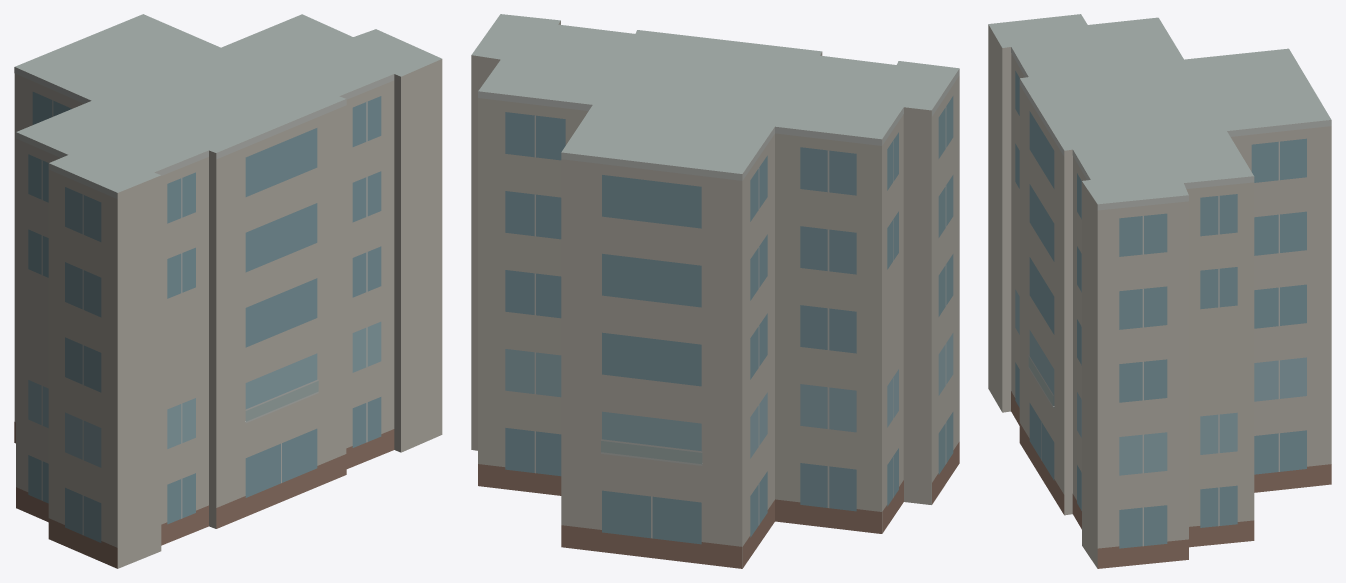
File: survey-upis-32921611.glb
3 renders of one model, left to right at view 1: azimuth 30°, elevation 25°; view 2: azimuth 150°, elevation 25°; view 3: azimuth 270°, elevation 25°, orthographic. The views are drawn at different scales.
Parts seen in each view (by area): view 1: survey-upis-32921611.tmp; view 2: survey-upis-32921611.tmp; view 3: survey-upis-32921611.tmp.
Part boxes in pixels (bbox=[...]): survey-upis-32921611.tmp: bbox=[14, 14, 442, 568]; survey-upis-32921611.tmp: bbox=[471, 14, 959, 568]; survey-upis-32921611.tmp: bbox=[988, 14, 1331, 568].
Size of the model in its own units: 16.02 by 14.3 by 12.21.
